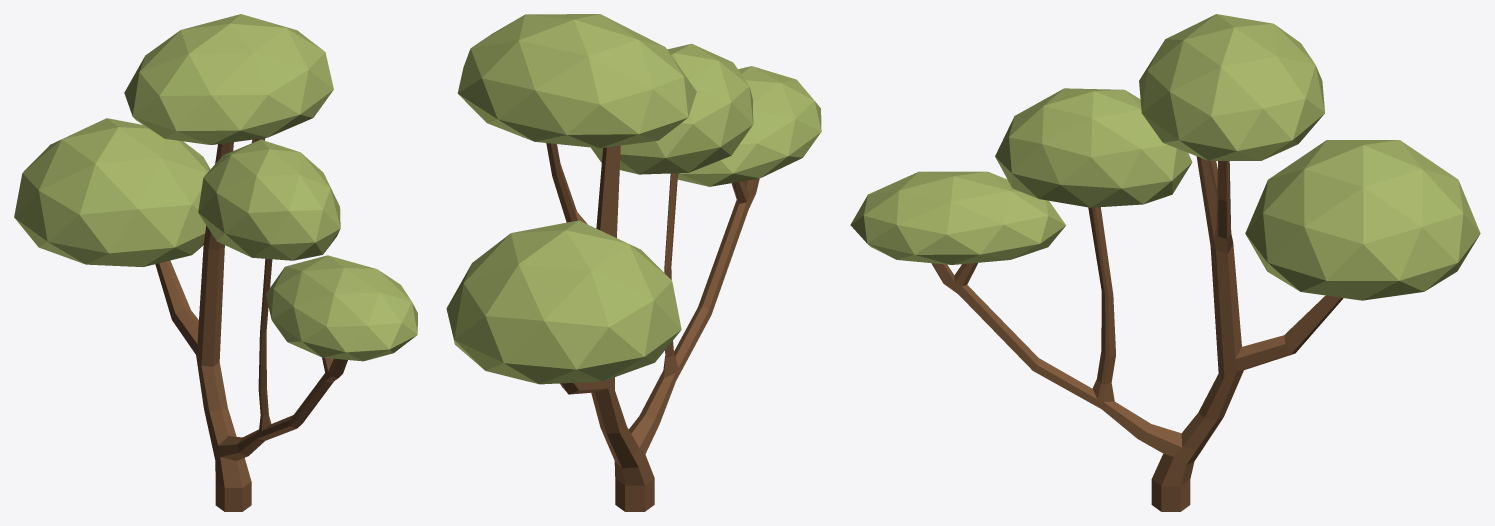
The model's file is tree_q3.glb.
3 views of the same model, side by side, from view 1: azimuth 30°, elevation 25°; view 2: azimuth 150°, elevation 25°; view 3: azimuth 270°, elevation 25° (orthographic). The views are drawn at different scales.
Parts seen in each view (by area): view 1: Tree4_Cylinder.003; view 2: Tree4_Cylinder.003; view 3: Tree4_Cylinder.003.
Boxes of the visible parts, bbox=[...] form: Tree4_Cylinder.003: bbox=[14, 14, 417, 511]; Tree4_Cylinder.003: bbox=[446, 14, 821, 511]; Tree4_Cylinder.003: bbox=[850, 14, 1480, 511].
Size of the model in its own units: 2.2 by 4 by 4.65.
